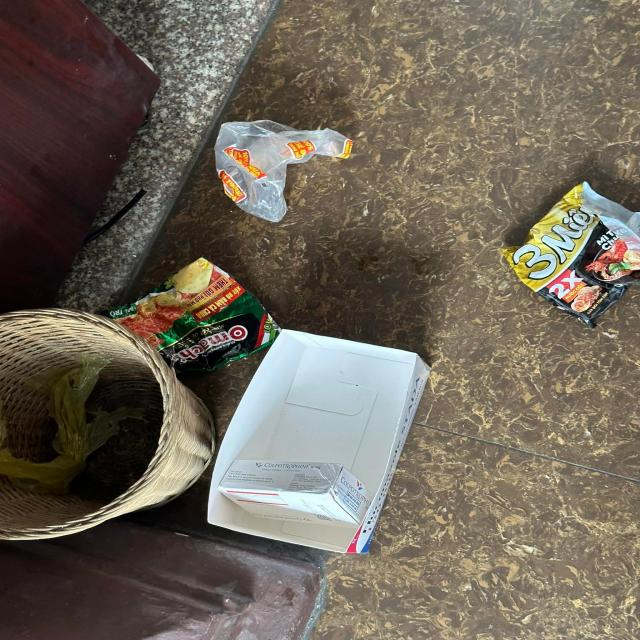bag: (215, 123, 353, 224)
cardboard box: (210, 330, 430, 554), (215, 458, 371, 530)
snack package: (500, 180, 640, 328), (111, 256, 281, 377)
